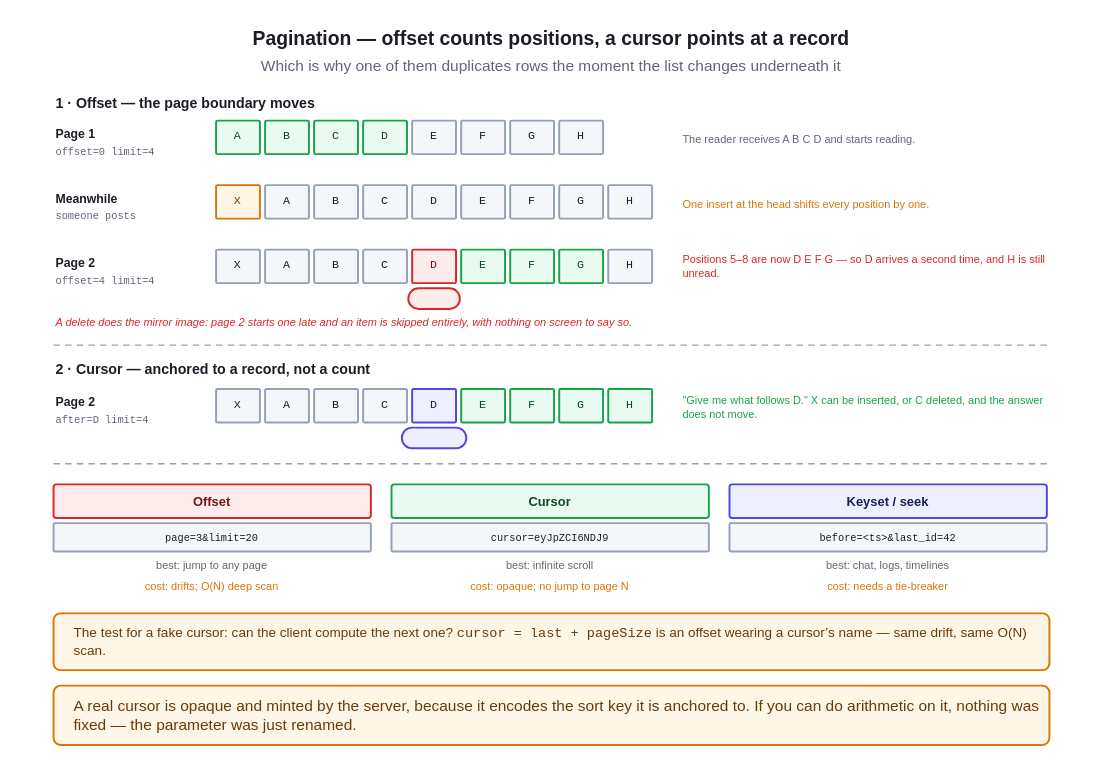
The diagram is 1102 pixels wide and 768 high, and some of its shapes have lost their labels. The shapes that lost their labels are listed below. From the top down, each one's box as (x1, y1, x2, y2) in pixels, then its label:
(407, 287, 460, 309): twice
(400, 426, 467, 449): anchor
